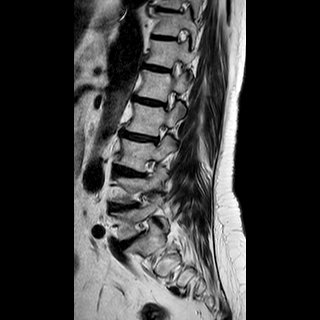LFS0: (137, 151, 160, 183), (149, 118, 171, 151), (158, 87, 180, 117)
